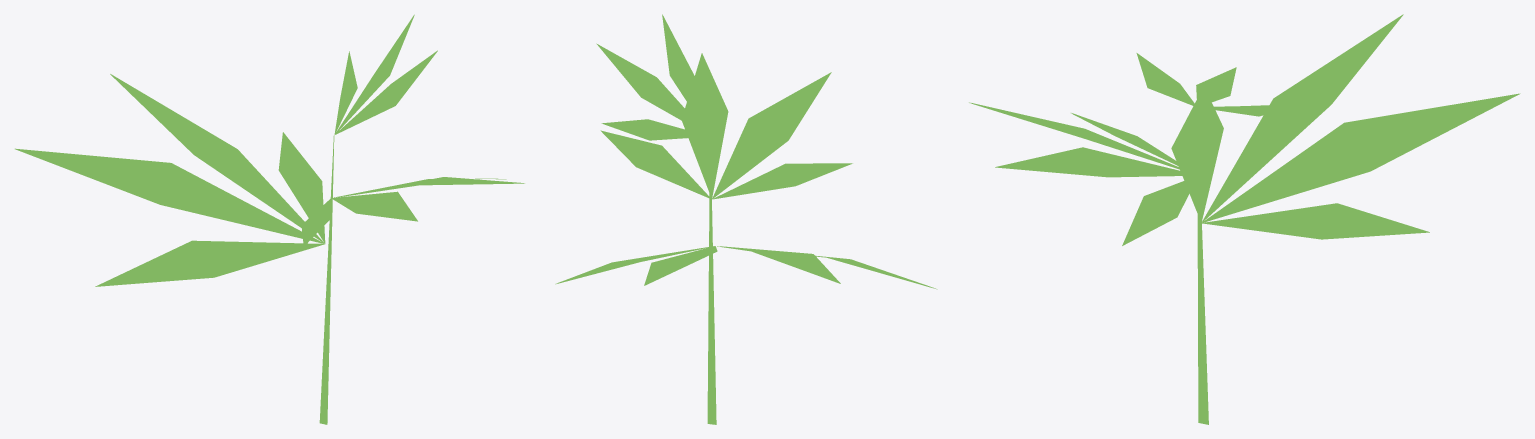
Rendered from Plant_i_TwoS_09.fbx.
The picture shows the model from 3 angles, left to right: view 1: azimuth 30°, elevation 25°; view 2: azimuth 150°, elevation 25°; view 3: azimuth 270°, elevation 25°; orthographic projection. The views are drawn at different scales.
Parts seen in each view (by area): view 1: Plant_i_TwoS_09; view 2: Plant_i_TwoS_09; view 3: Plant_i_TwoS_09.
Part boxes in pixels (x1,y1,x2,y2): Plant_i_TwoS_09: (15,14,524,424); Plant_i_TwoS_09: (555,14,937,424); Plant_i_TwoS_09: (969,14,1520,424).
Bounding box in the file's own units: 0.3103 × 0.2909 × 0.3515.
